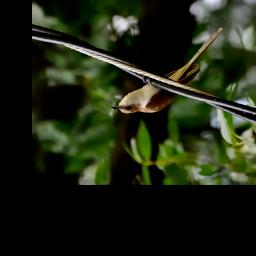Cuckoo: (110, 25, 225, 115)
